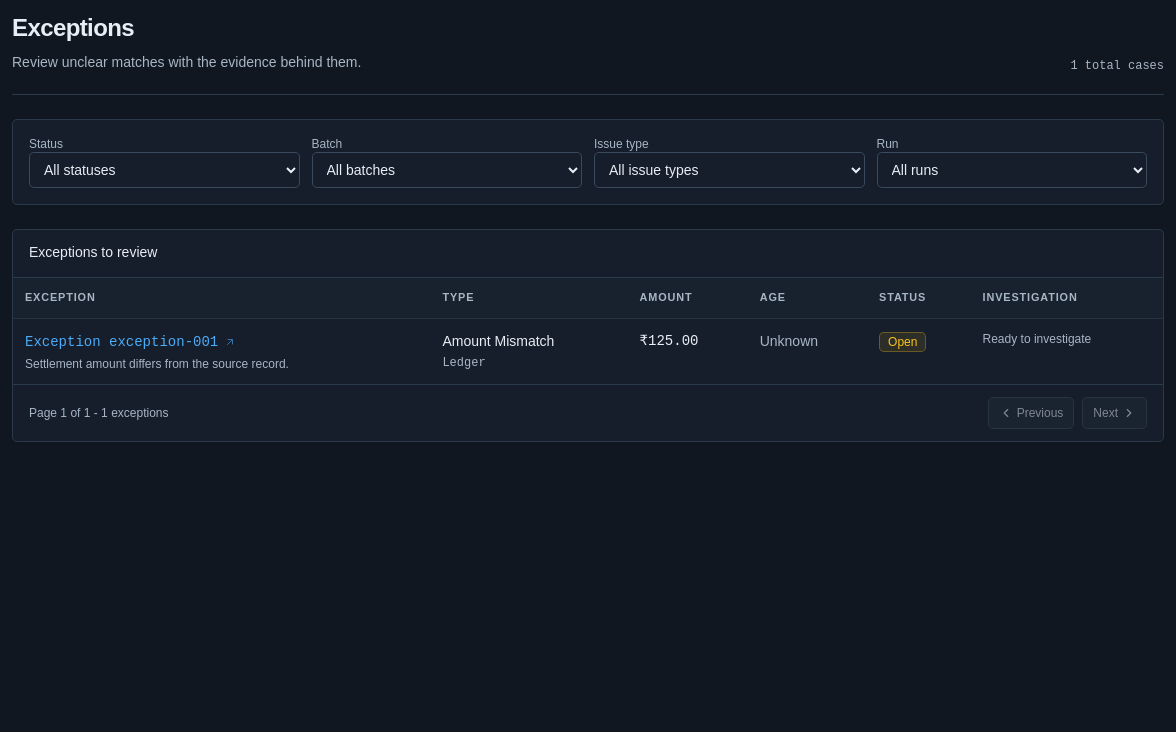
exceptions queue › renders operational fields and reloads when the status filter changes
expect the heading "Exceptions" is shown: met, box [12,12,134,44]
Select "Approved" in the dropdown labelled "Status" at (164, 170), box [29,152,300,188]
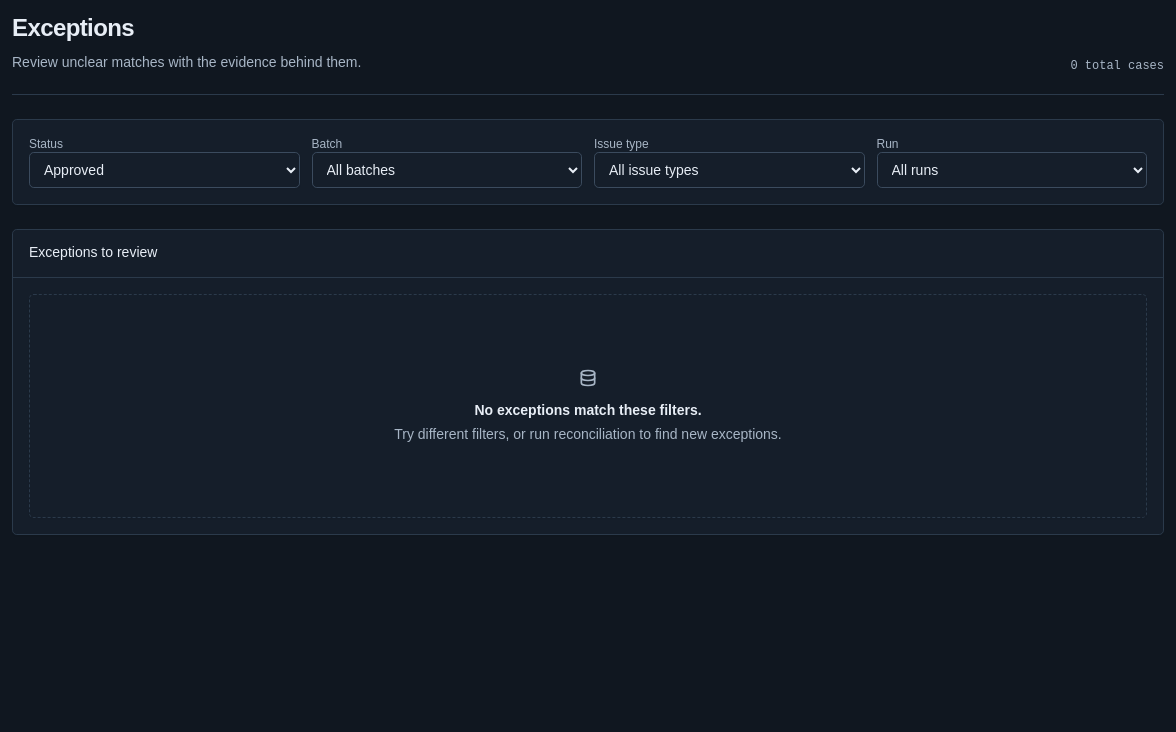
expect the heading "No exceptions match these filters." is shown: met, box [474,402,702,418]
